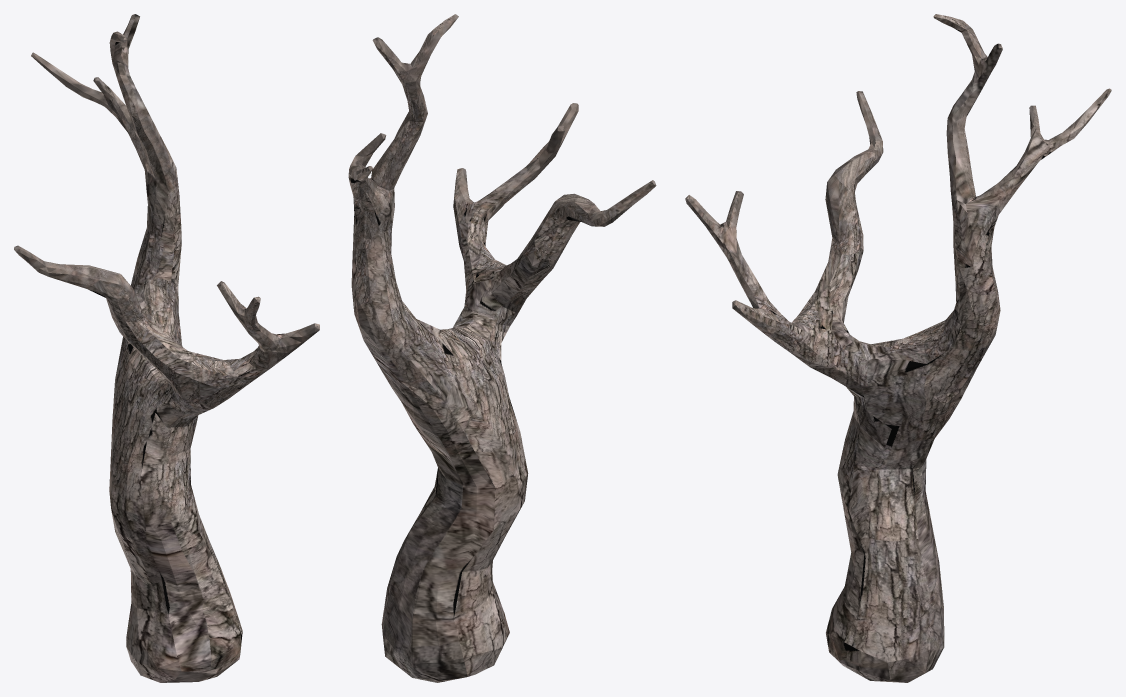
Rendered from tree2.obj.
3 views of the same model, side by side, from view 1: azimuth 30°, elevation 25°; view 2: azimuth 150°, elevation 25°; view 3: azimuth 270°, elevation 25° (orthographic). The views are drawn at different scales.
Parts seen in each view (by area): view 1: Tree2_Cube.002; view 2: Tree2_Cube.002; view 3: Tree2_Cube.002.
Boxes of the visible parts, x1,y1,x2,y2 form: Tree2_Cube.002: (14, 14, 319, 682); Tree2_Cube.002: (348, 14, 656, 682); Tree2_Cube.002: (685, 14, 1111, 682).
Bounding box in the file's own units: 2.93 × 7.2 × 4.34.
